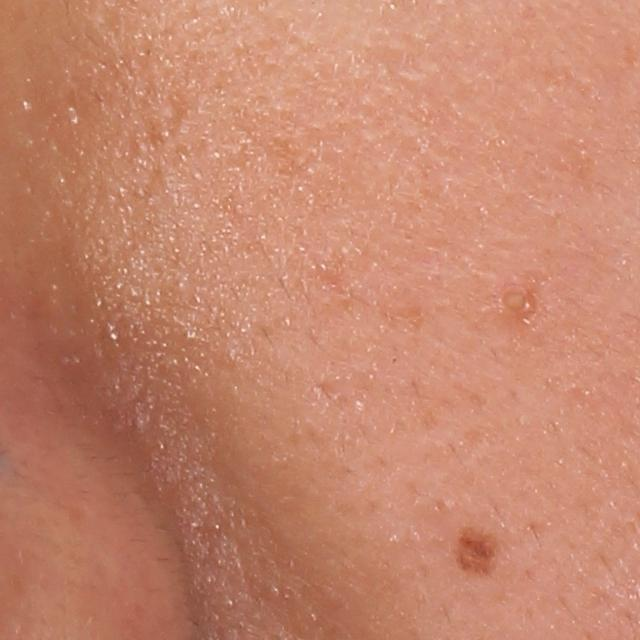nevus: (447, 517, 496, 591)
